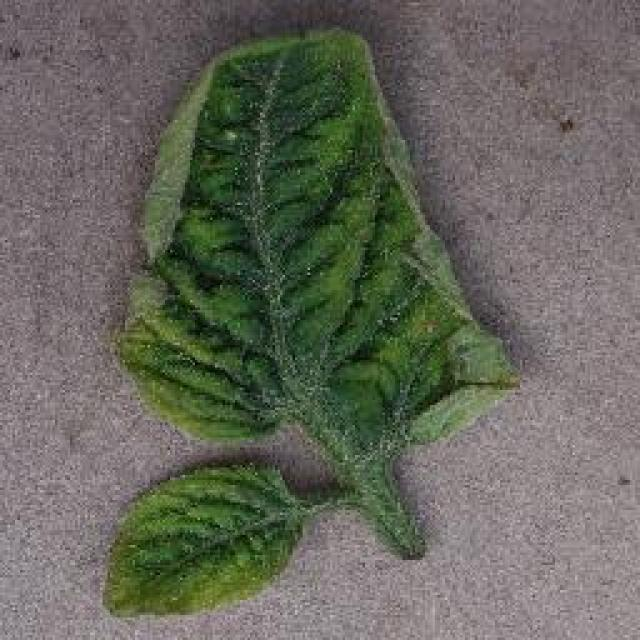Tomato yellow virus leaf: (125, 23, 507, 445), (105, 461, 310, 619)
